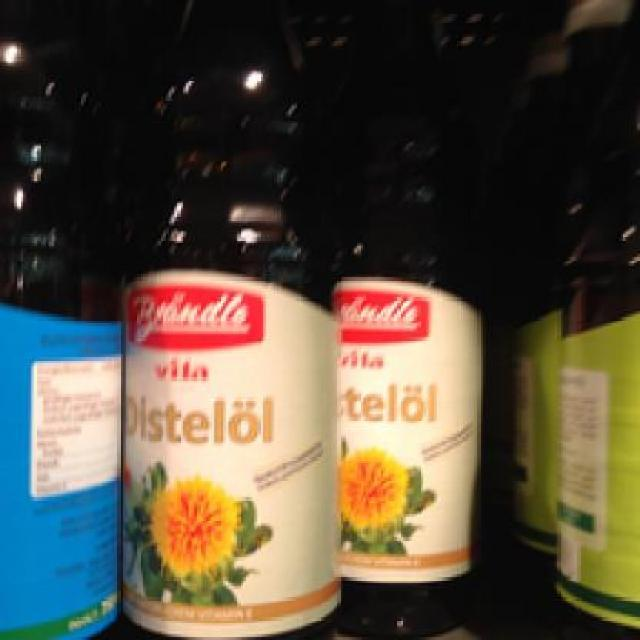Oil: (123, 2, 337, 638), (326, 11, 483, 604)
